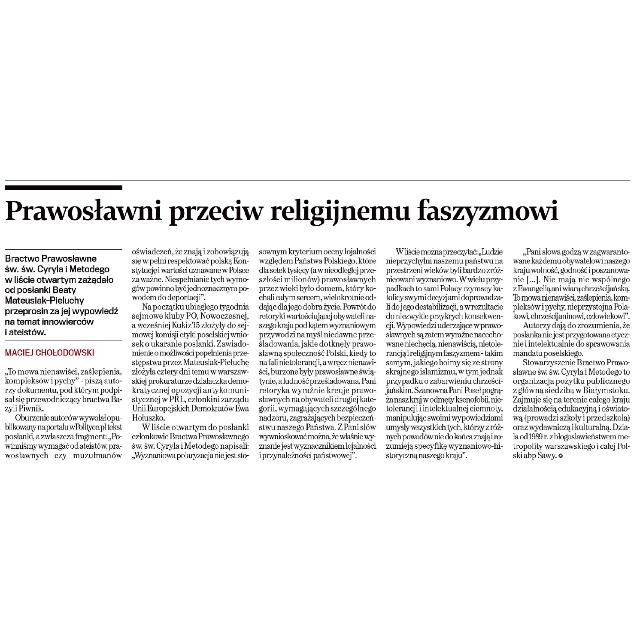author: (3, 342, 101, 360)
body: (508, 243, 636, 461), (256, 243, 380, 463), (129, 245, 253, 461), (383, 242, 505, 460), (1, 363, 124, 461)
lead: (2, 252, 122, 336)
title: (3, 192, 563, 230)
